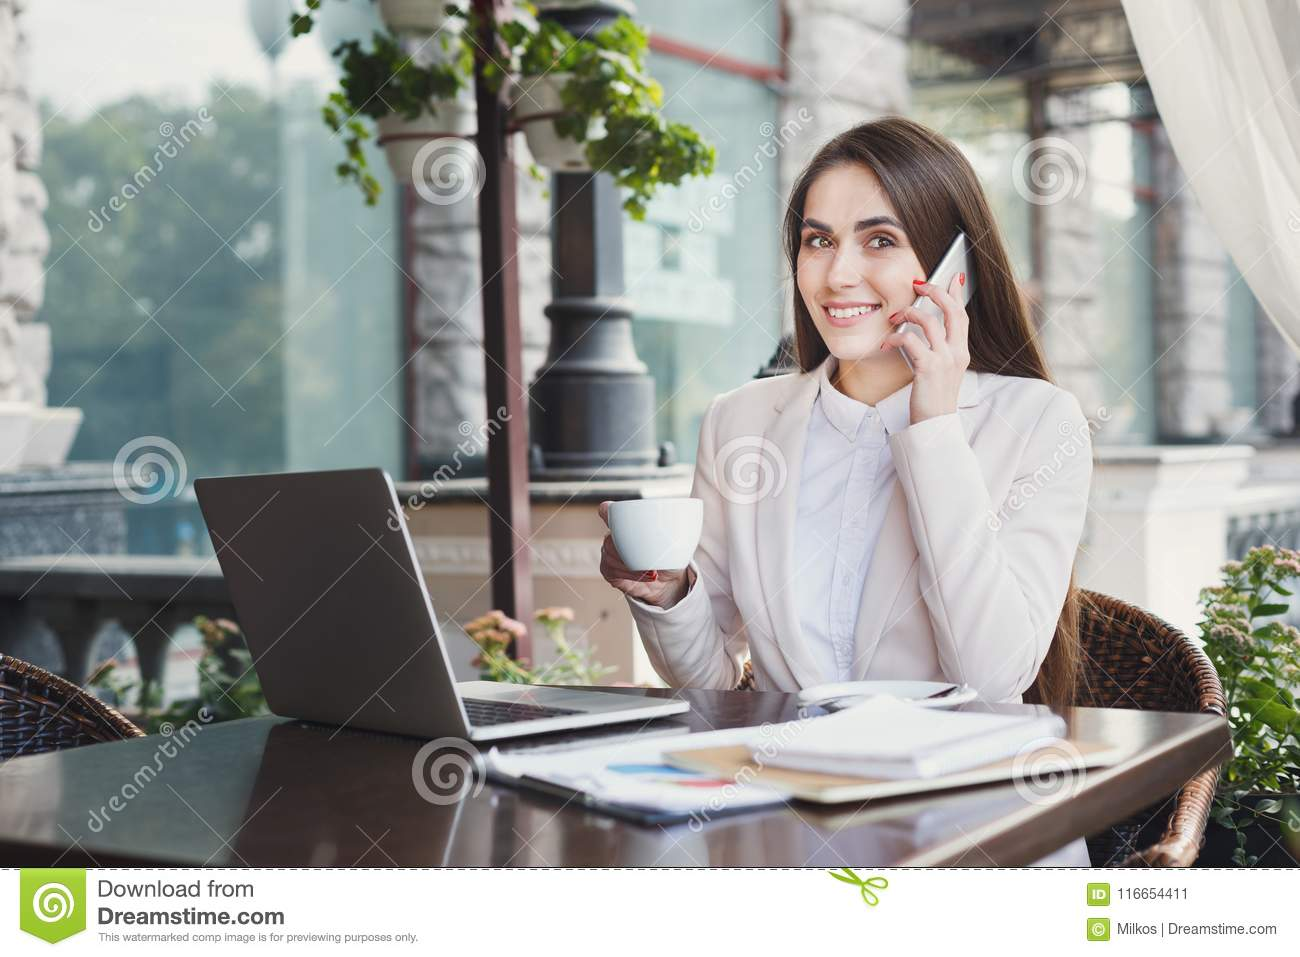phone: (895, 227, 978, 383)
talk: (793, 212, 983, 420)
